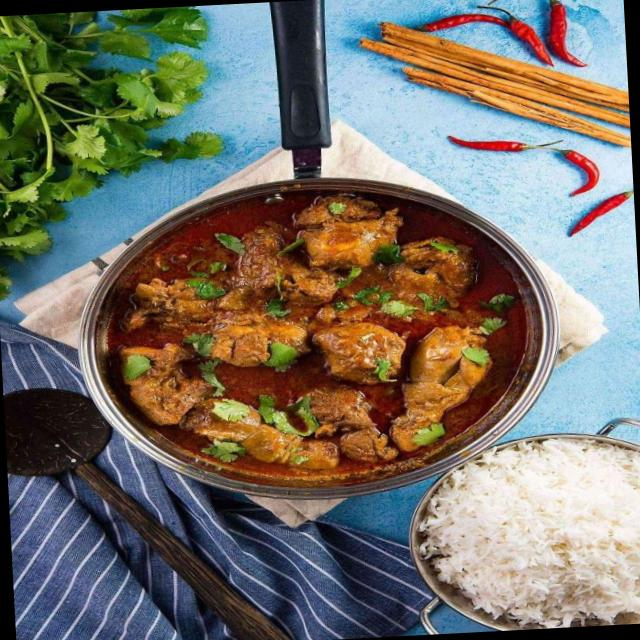chicken: (96, 200, 526, 494)
rice: (447, 453, 640, 627)
